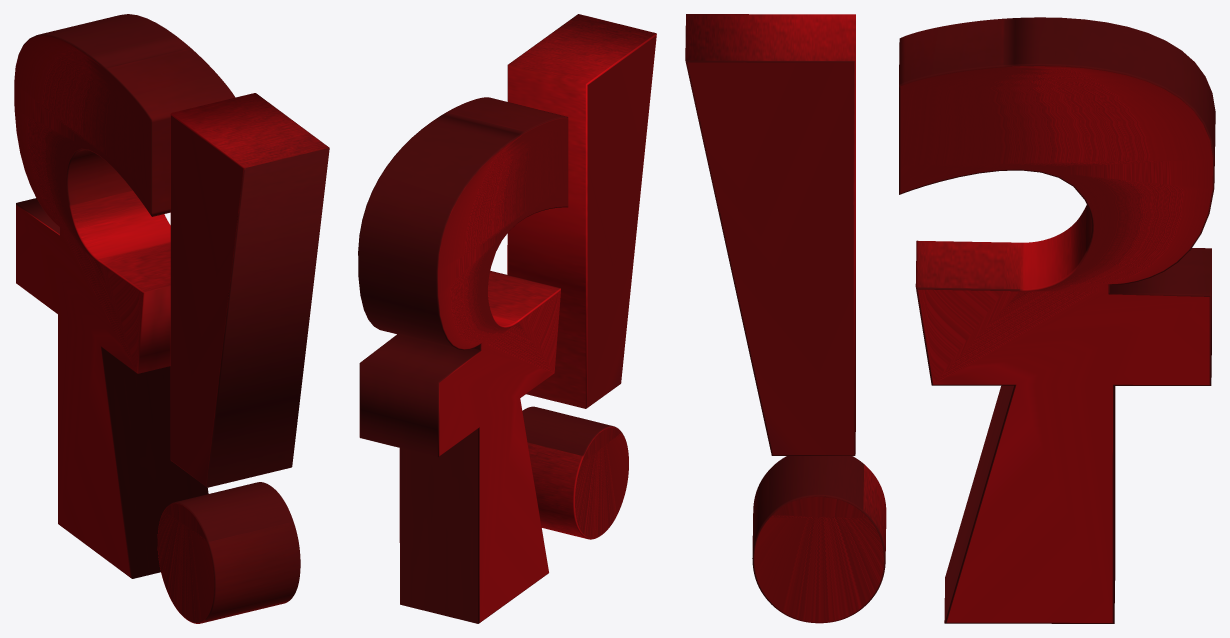
Rendered from TOTEMFELASTICO_X_SITO.glb.
The picture shows the model from 3 angles, left to right: view 1: azimuth 30°, elevation 25°; view 2: azimuth 150°, elevation 25°; view 3: azimuth 270°, elevation 25°; orthographic projection. The views are drawn at different scales.
Parts seen in each view (by area): view 1: TOTEM; view 2: TOTEM; view 3: TOTEM.
Boxes of the visible parts, left/top/right/bottom form: TOTEM: left=14, top=14, right=329, bottom=623; TOTEM: left=358, top=14, right=656, bottom=623; TOTEM: left=685, top=14, right=1215, bottom=623.
Size of the model in its own units: 2.91 by 15.56 by 13.3.
Materials: 1 (1 with a texture image).
